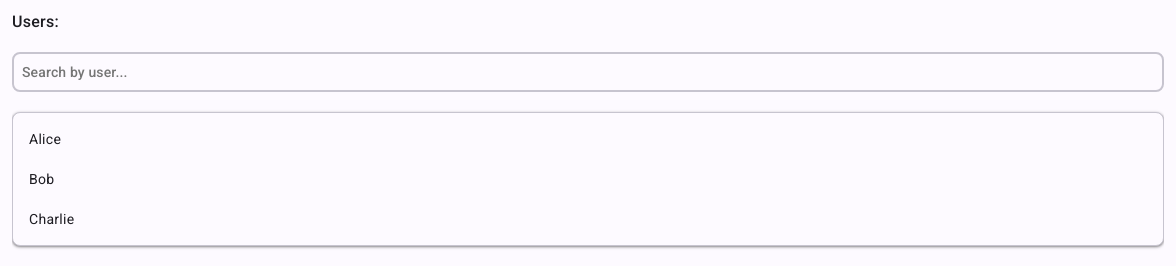
MultiSelectInput › should show filtered options as user types
This screenshot has width=1176, height=266.
Type "bob" into the field named "search users" at (588, 72), box [12, 52, 1164, 92]
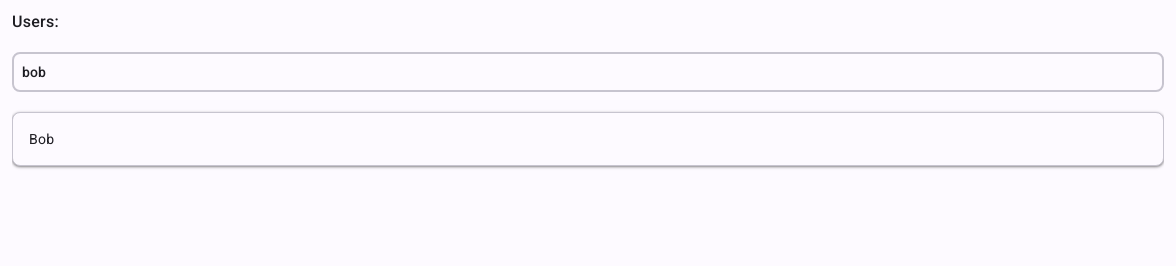
Expected: the option "Bob" is shown, [29, 131, 54, 147]
Expected: the option "Alice" is gone
